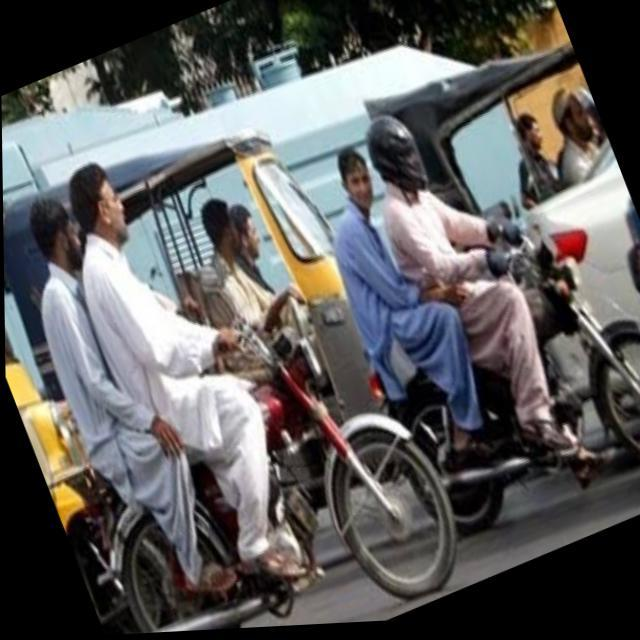Helmet: (357, 103, 442, 210)
Nonhelmet: (65, 149, 141, 248), (20, 193, 88, 279), (332, 143, 379, 215)
